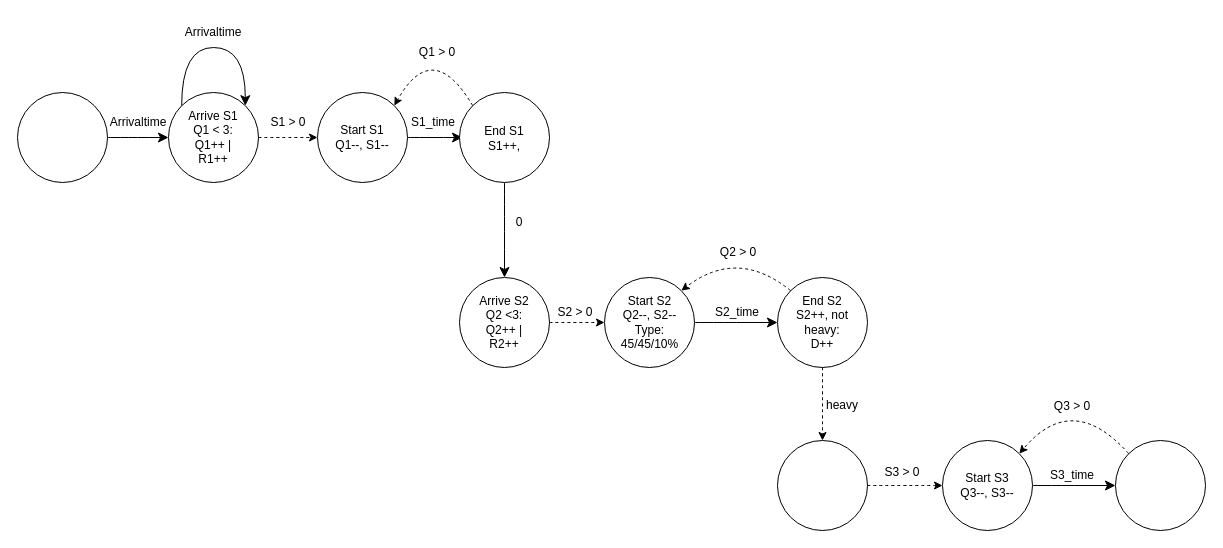
The diagram is 1223 pixels wide and 548 high, and some of its shapes have lost their labels. Here are the shapes that lost their labels. From the top down, the centre of each, then its label:
At [62,137]: "Run Q = 0, S=1, D=R=0".
At [822,485]: "Arrive S3 Q3 <3: Q3++ | R3++".
At [1160,485]: "End S3 S3++, D++".
